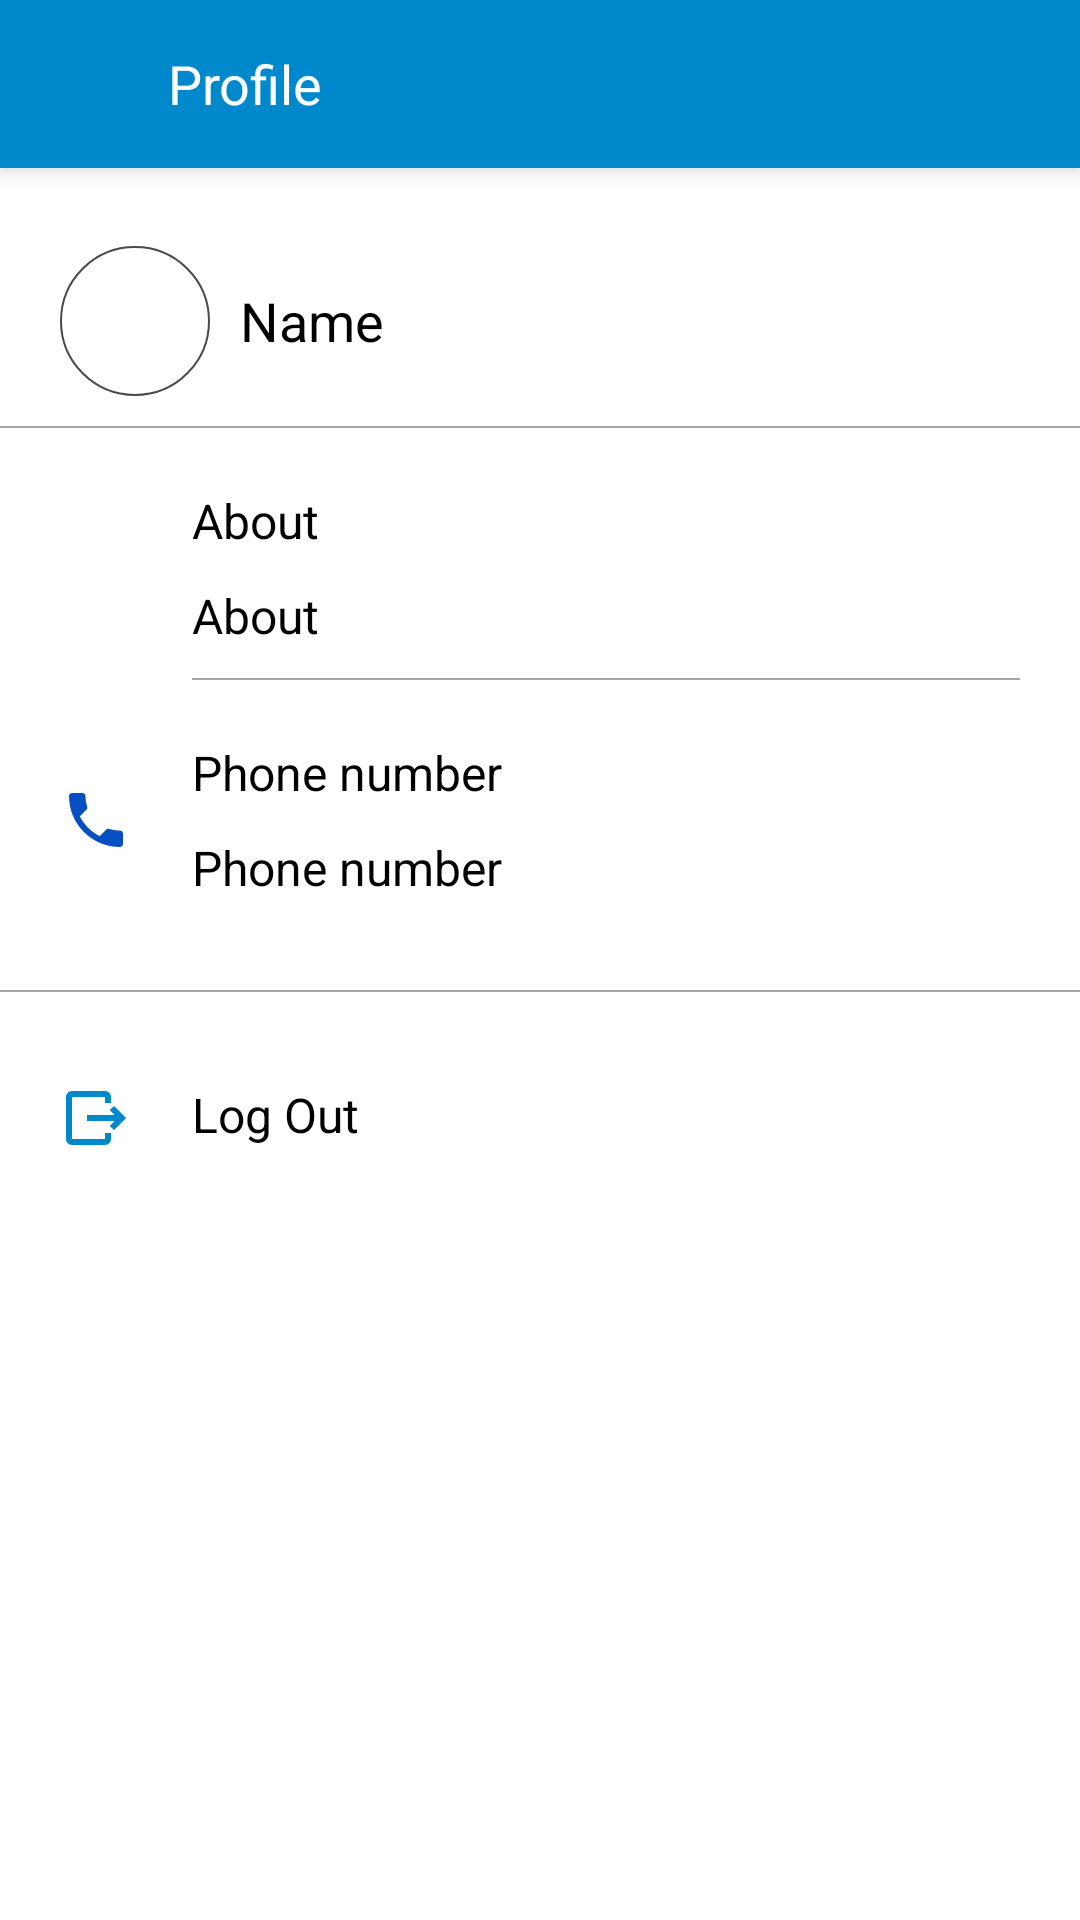

Icon bounding boxes for this 1080px×1920px phone screenshot, format (x1, y1, x2, y2):
mobile: (69, 793, 123, 847)
